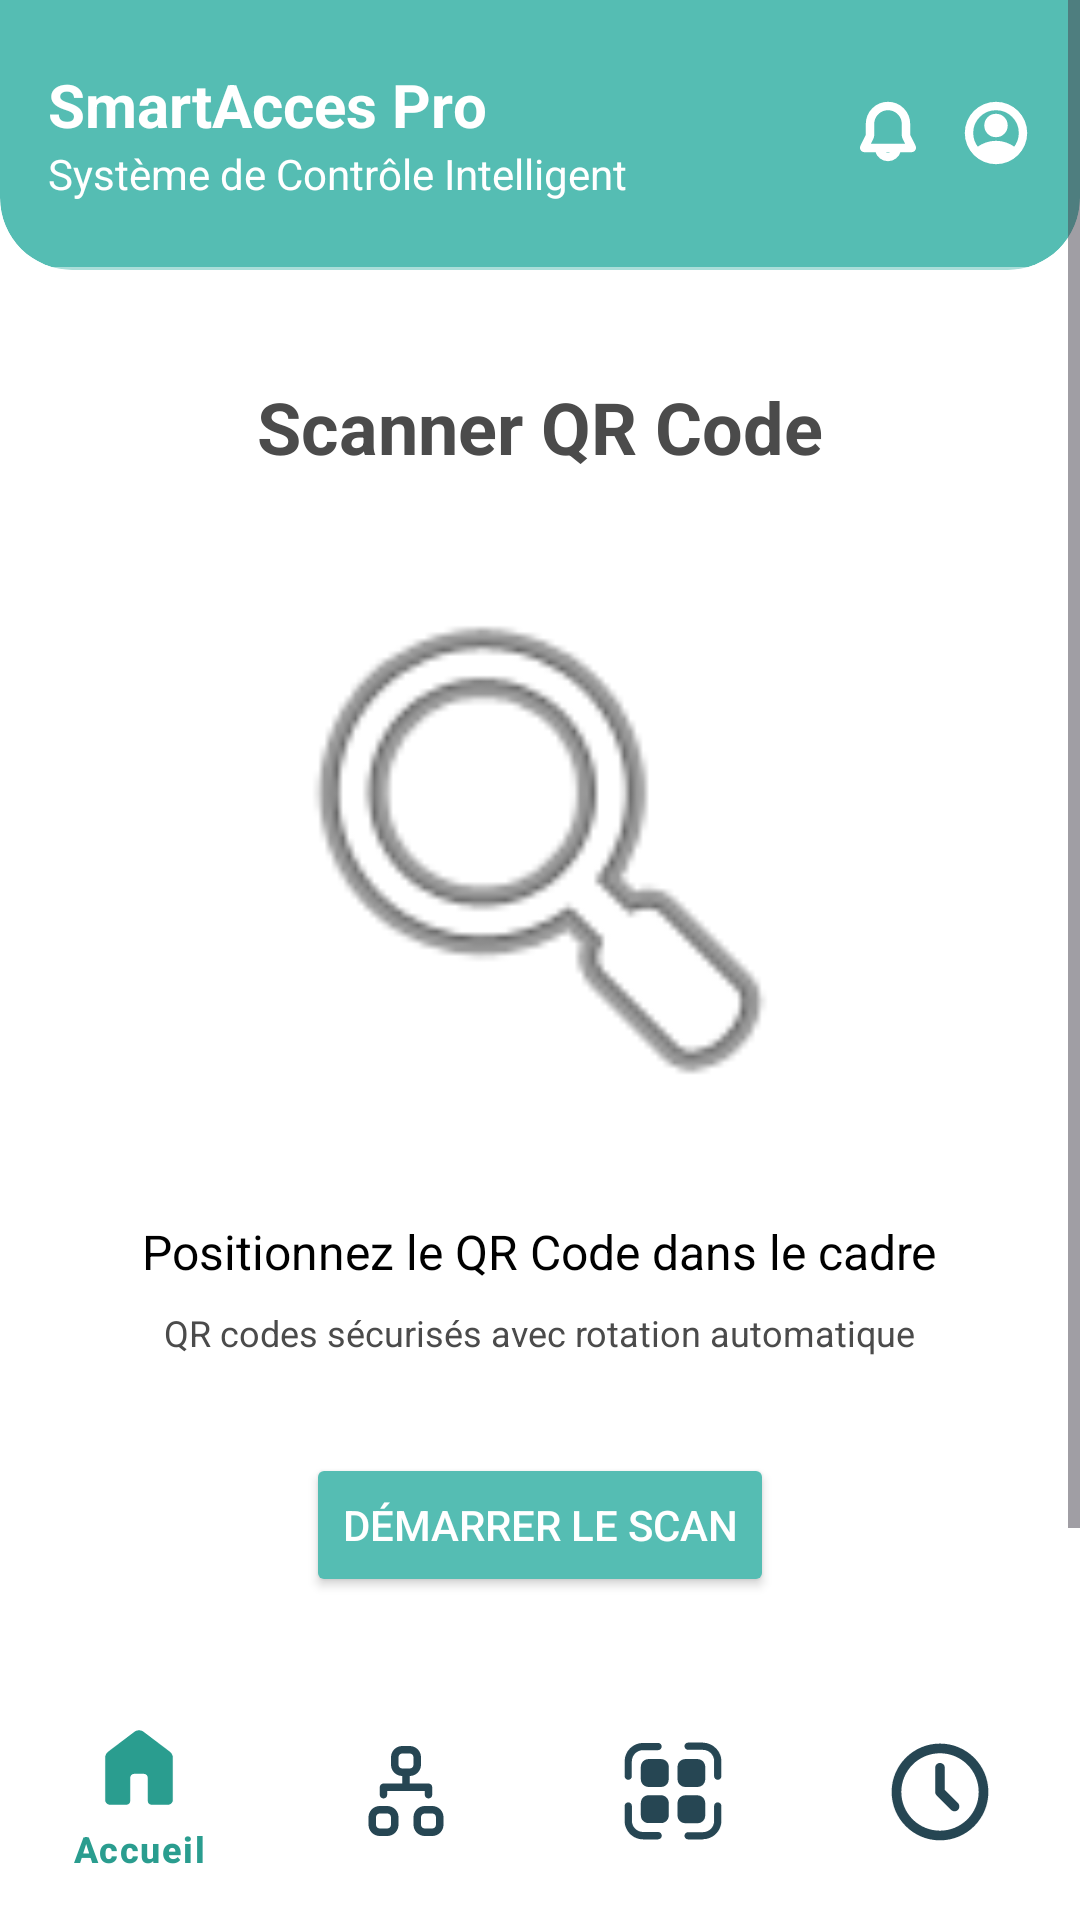

Icon click points for this 1080 x 1920 phone screenshot, format point (x, y):
notification: point (888, 131)
profile: point (996, 133)
